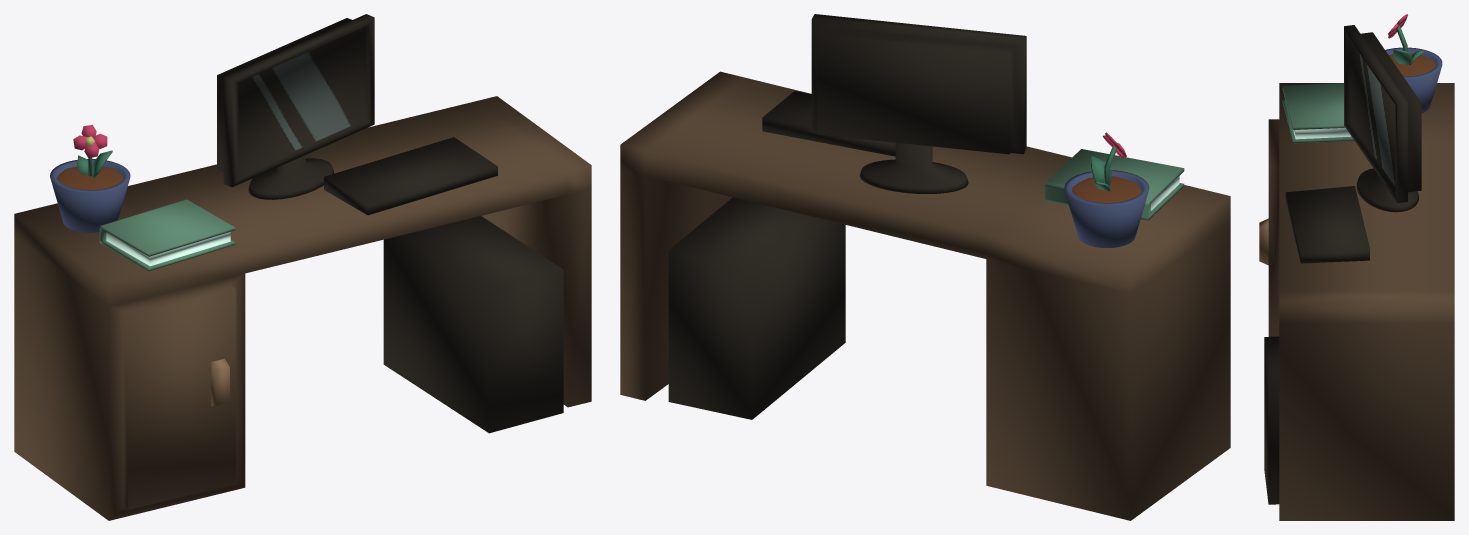
File: Desk_Bedroom_V1.fbx
The picture shows the model from 3 angles, left to right: view 1: azimuth 30°, elevation 25°; view 2: azimuth 150°, elevation 25°; view 3: azimuth 270°, elevation 25°; orthographic projection. The views are drawn at different scales.
Visible parts, largest first — view 1: Cube.005, Cube.015, Cube.008, Cube.006, Cube.016, Cylinder, Cylinder.002, Cylinder.001, Cube; view 2: Cube.005, Cube.015, Cube.008, Cylinder, Cylinder.002, Cube.016, Cube.006, Cylinder.001; view 3: Cube.005, Cube.008, Cube.006, Cube.016, Cube.015, Cylinder.002, Cylinder, Cylinder.001, Cube.
Boxes of the visible parts, x1,y1,x2,y2 form: Cube.005: (14, 96, 591, 520); Cube.015: (383, 216, 563, 433); Cube.008: (217, 14, 374, 187); Cube.006: (324, 137, 497, 215); Cube.016: (99, 199, 235, 271); Cylinder: (50, 159, 130, 232); Cylinder.002: (248, 155, 333, 199); Cylinder.001: (57, 165, 123, 189); Cube: (211, 358, 229, 406); Cube.005: (620, 71, 1230, 520); Cube.015: (668, 197, 845, 419); Cube.008: (811, 14, 1026, 154); Cylinder: (1064, 170, 1149, 247); Cylinder.002: (859, 142, 968, 193); Cube.016: (1045, 149, 1184, 220); Cube.006: (762, 91, 895, 156); Cylinder.001: (1072, 176, 1141, 202); Cube.005: (1268, 83, 1454, 520); Cube.008: (1344, 25, 1421, 202); Cube.006: (1285, 186, 1369, 263); Cube.016: (1282, 83, 1354, 143); Cube.015: (1264, 336, 1279, 504); Cylinder.002: (1356, 168, 1418, 212); Cylinder: (1385, 47, 1442, 112); Cylinder.001: (1389, 53, 1435, 76); Cube: (1259, 218, 1268, 265).
Bounding box in the file's own units: 222 × 165 × 83.64.
